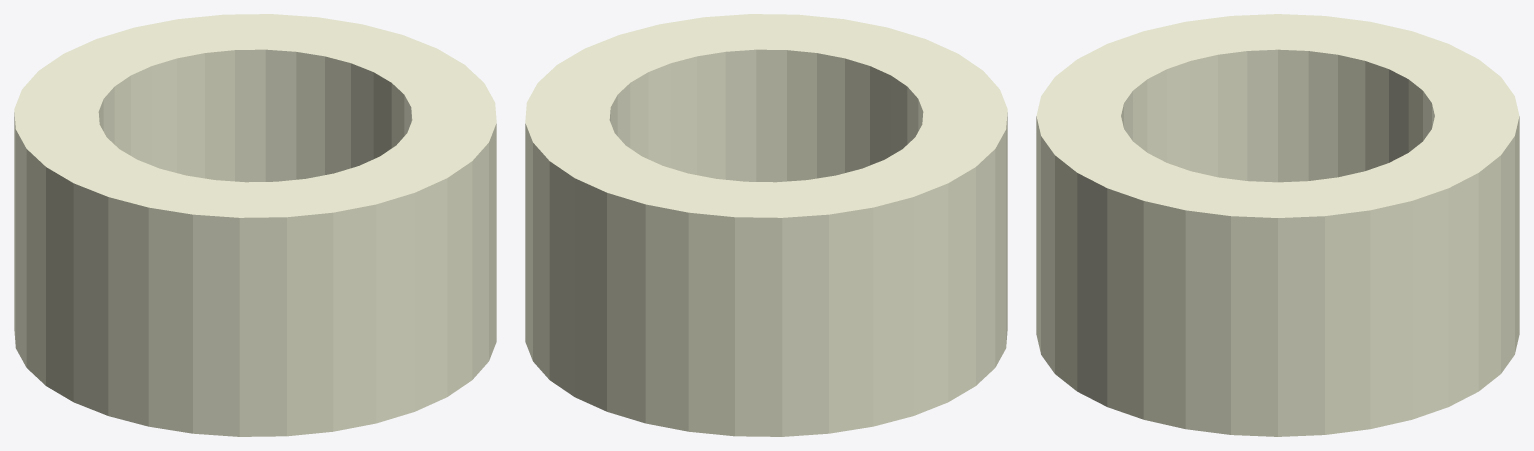
The model's file is OnionRing.fbx.
The picture shows the model from 3 angles, left to right: view 1: azimuth 30°, elevation 25°; view 2: azimuth 150°, elevation 25°; view 3: azimuth 270°, elevation 25°; orthographic projection.
Parts seen in each view (by area): view 1: scallion; view 2: scallion; view 3: scallion.
Part boxes in pixels (x1=…): scallion: x1=14, y1=14, x2=496, y2=436; scallion: x1=525, y1=14, x2=1007, y2=436; scallion: x1=1036, y1=14, x2=1519, y2=436.
Bounding box in the file's own units: 40 × 20 × 40.
